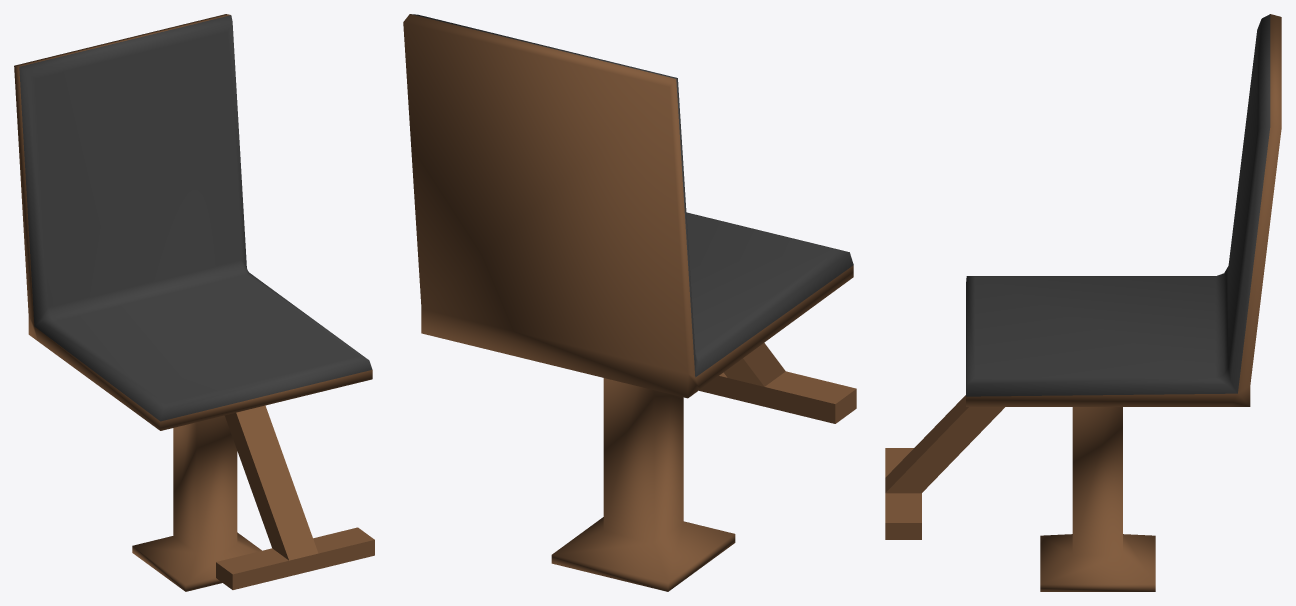
Rendered from barberChair.fbx.
The picture shows the model from 3 angles, left to right: view 1: azimuth 30°, elevation 25°; view 2: azimuth 150°, elevation 25°; view 3: azimuth 270°, elevation 25°; orthographic projection. The views are drawn at different scales.
Parts seen in each view (by area): view 1: Barber Chair; view 2: Barber Chair; view 3: Barber Chair.
Part boxes in pixels (x1,y1,x2,y2): Barber Chair: (14,14,374,591); Barber Chair: (403,14,856,591); Barber Chair: (885,14,1281,591).
Size of the model in its own units: 55.77 by 83.7 by 116.
